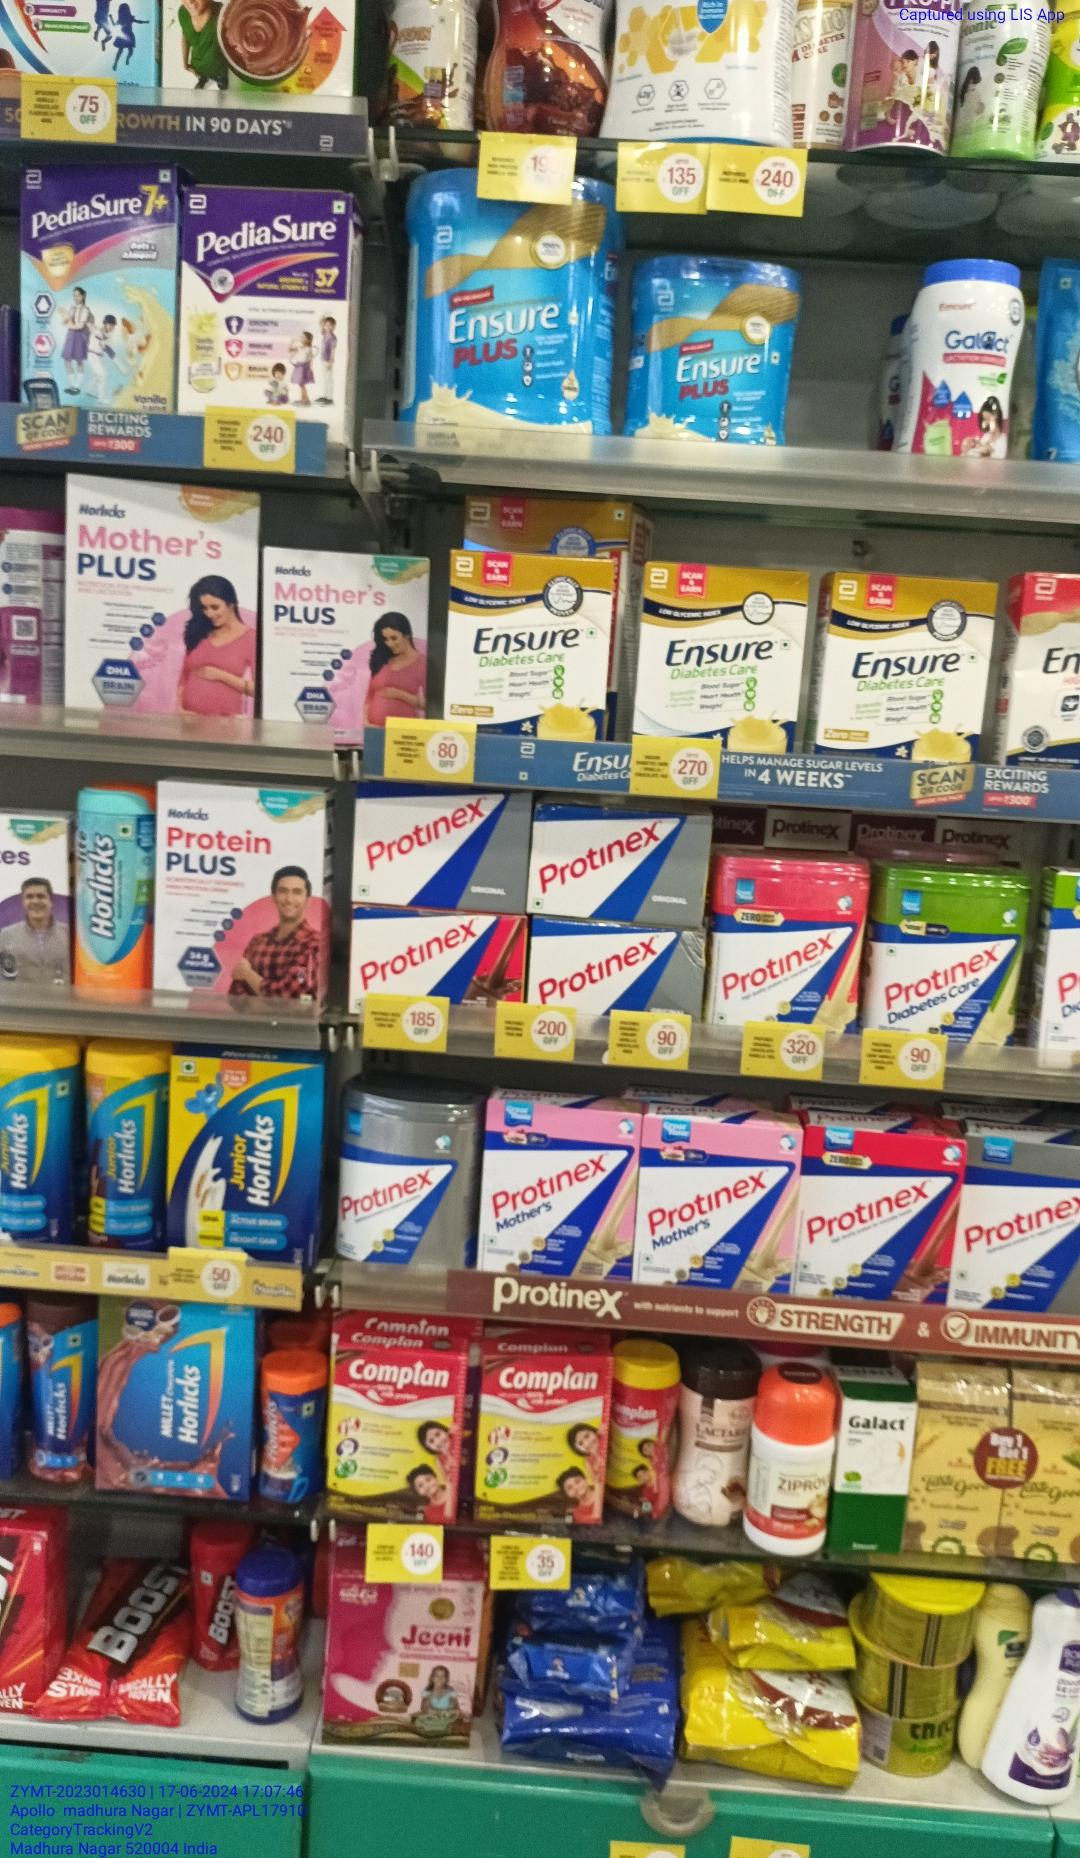COMPLAN_CHOCOLATE_500_GMS_PACK: (472, 1348, 612, 1528), (325, 1339, 463, 1519)
HORLICKS_LITE_REGULAR_MALT_500_GM_JAR: (75, 777, 150, 1002)
HORLICK_CLASSIC_MALT_200_G_JAR: (251, 1351, 319, 1504)
PROTINEX_ORIGINAL_400_G_JAR: (333, 1087, 473, 1267)
